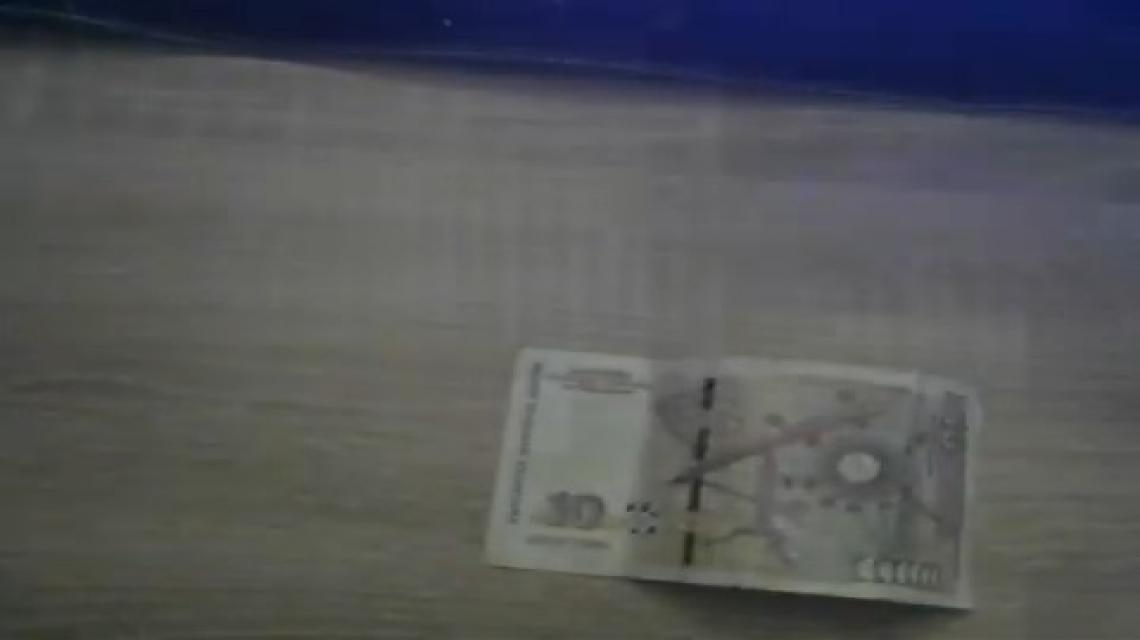10leva: (482, 348, 986, 613)
